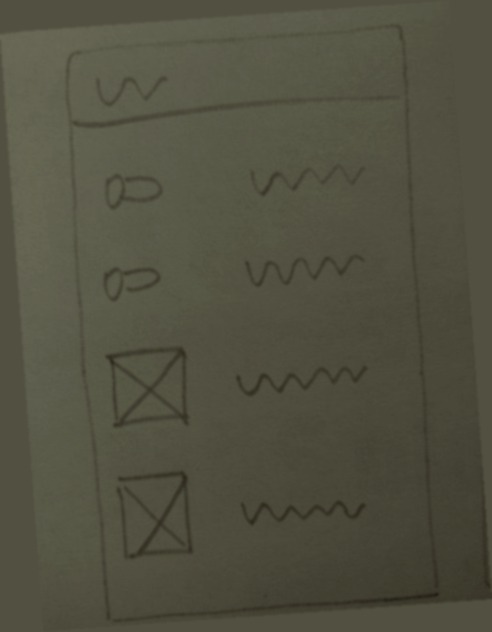image: (107, 466, 204, 568), (99, 341, 199, 436)
switch: (95, 162, 169, 219), (96, 251, 171, 307)
text: (229, 356, 375, 404), (232, 486, 378, 534), (243, 155, 374, 203), (238, 240, 369, 288), (89, 62, 172, 108)
